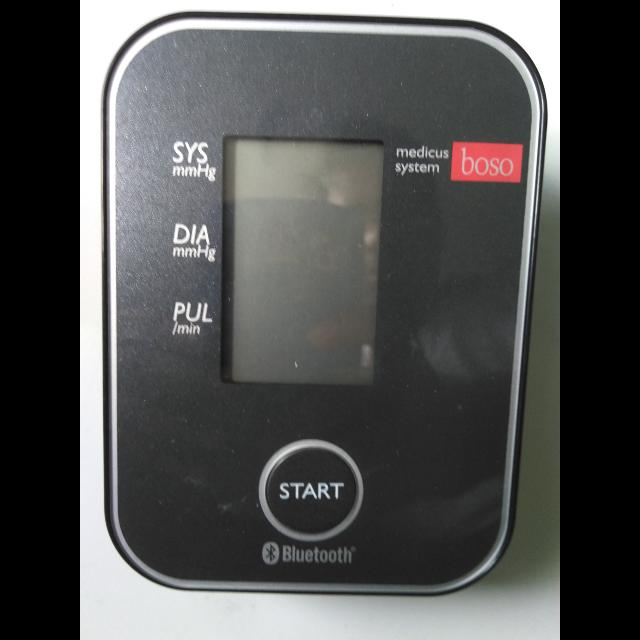Blood-Pressure-Monitor: (99, 2, 547, 620)
